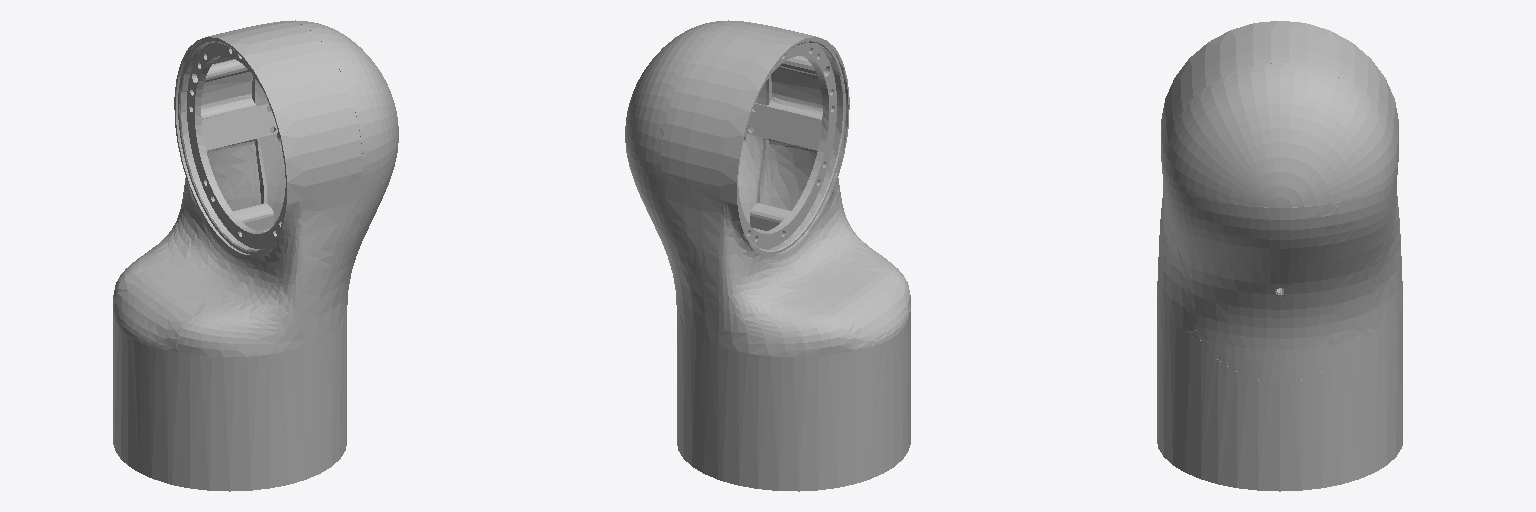
URDF robot description (root):
<?xml version='1.0' encoding='utf-8'?>
<robot name="root">
  <link name="link_001">
    <visual>
      <origin xyz="0 0 0" rpy="0 0 0" />
      <geometry>
        <mesh filename="266cb371bd93a43427be66918658770c5888208d9c026aa9c95e576b25b10a09_scale_047.stl" scale="1.0000E+00 1.0000E+00 1.0000E+00" />
      </geometry>
      <material name="">
        <color rgba="7.50E-01 7.50E-01 7.50E-01 1" />
      </material>
    </visual>
    <collision>
      <origin xyz="0 0 0" rpy="0 0 0" />
      <geometry>
        <mesh filename="266cb371bd93a43427be66918658770c5888208d9c026aa9c95e576b25b10a09_scale_047.stl" scale="1.0000E+00 1.0000E+00 1.0000E+00" />
      </geometry>
    </collision>
  </link>
</robot>

--- What the picture shows (computed from the rendered views, not written in the file) ---
3 views of the same robot in one strip: view 1: azimuth 30°, elevation 25°; view 2: azimuth 150°, elevation 25°; view 3: azimuth 270°, elevation 25° (orthographic).
Robot: root — 1 links, 0 joints (none); root link link_001; default pose: every joint at zero.
Visible links, largest first — view 1: link_001; view 2: link_001; view 3: link_001.
Boxes of the visible links, x1=… form: link_001: x1=113, y1=20, x2=398, y2=491; link_001: x1=625, y1=20, x2=910, y2=491; link_001: x1=1157, y1=21, x2=1402, y2=491.
Size in the robot's own frame: 0.0696 by 0.0552 by 0.1033 metres.
Meshes: 1 distinct files referenced, 1 mesh visuals loaded (1 binary STL).
